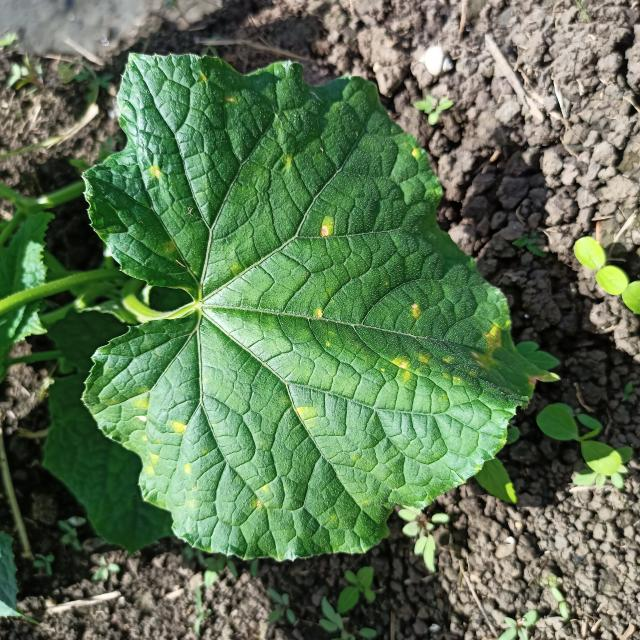disease_cucumber: (390, 300, 504, 388), (124, 388, 196, 488), (319, 215, 336, 239), (292, 402, 312, 419), (148, 166, 162, 179), (314, 310, 324, 322)
